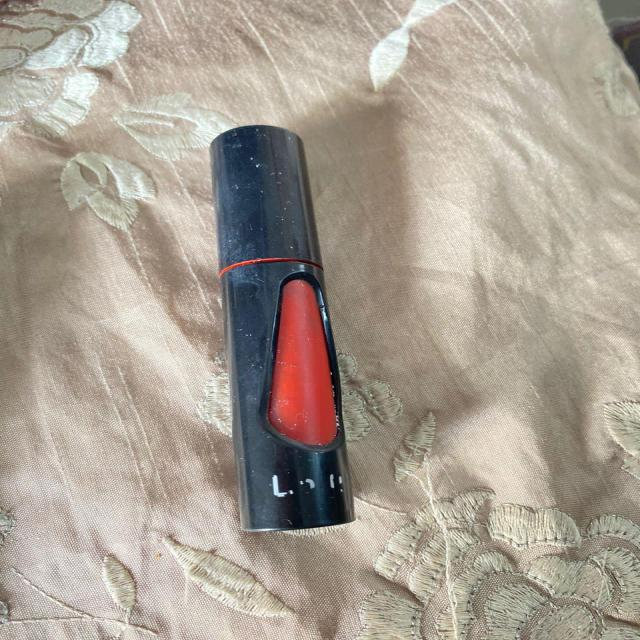lip gloss: (190, 102, 379, 555)
